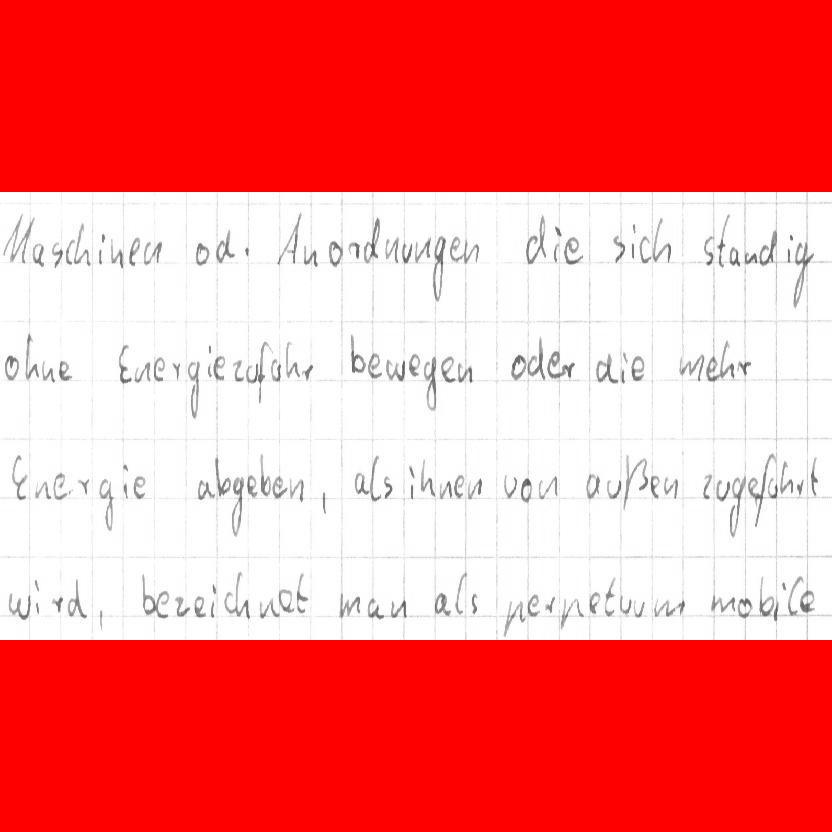Char: (622, 452, 649, 511), (791, 240, 814, 309), (1, 204, 26, 267), (276, 208, 302, 267), (522, 212, 549, 266), (728, 474, 747, 539), (430, 232, 446, 303), (559, 590, 582, 632), (362, 216, 382, 264), (252, 343, 268, 402), (652, 217, 672, 264), (67, 224, 88, 268), (97, 477, 114, 531), (525, 333, 544, 381), (502, 595, 524, 636), (10, 453, 28, 501), (230, 474, 244, 535), (23, 332, 40, 382), (187, 359, 201, 419), (747, 474, 762, 530), (716, 213, 731, 269), (67, 576, 86, 619), (347, 332, 366, 375), (593, 352, 617, 385), (139, 572, 157, 616), (424, 352, 438, 407), (234, 573, 251, 617), (758, 576, 776, 617), (283, 339, 301, 380), (214, 455, 231, 497), (654, 596, 685, 619), (215, 227, 234, 264), (759, 228, 778, 265), (294, 570, 309, 616), (117, 342, 133, 384), (679, 352, 703, 380), (453, 570, 467, 617), (718, 339, 734, 380), (772, 580, 787, 621), (8, 590, 29, 619), (764, 455, 778, 498), (337, 593, 362, 617), (536, 474, 558, 501), (142, 239, 163, 266), (368, 453, 380, 500), (258, 451, 270, 498), (778, 459, 794, 494), (807, 454, 820, 497), (508, 352, 527, 381), (603, 578, 617, 616), (564, 235, 582, 264), (709, 594, 735, 614), (546, 350, 563, 380), (288, 475, 306, 502), (194, 239, 212, 266), (30, 240, 48, 267), (414, 237, 432, 264), (448, 234, 464, 264), (53, 472, 69, 502), (612, 232, 627, 263), (31, 580, 43, 618), (33, 476, 51, 501), (367, 351, 382, 381), (434, 591, 452, 616), (302, 242, 320, 267), (799, 588, 817, 613), (788, 580, 800, 617), (605, 475, 622, 501), (584, 472, 601, 498), (385, 358, 404, 381), (525, 590, 540, 619), (128, 235, 142, 266), (400, 237, 416, 264), (172, 594, 190, 618), (49, 240, 65, 267), (3, 356, 20, 381), (156, 590, 171, 618), (260, 599, 280, 620), (735, 595, 755, 616), (438, 474, 453, 502), (464, 237, 480, 263), (47, 592, 65, 615), (197, 477, 214, 501), (353, 471, 368, 498), (384, 235, 399, 262), (278, 587, 293, 614), (422, 471, 437, 498), (133, 475, 149, 500), (469, 474, 485, 499), (408, 464, 419, 500), (700, 473, 714, 501), (152, 356, 166, 384), (701, 236, 714, 266), (552, 224, 562, 263), (327, 240, 342, 266), (40, 358, 55, 384), (272, 475, 288, 499), (388, 599, 408, 618), (134, 362, 152, 383), (407, 351, 420, 380), (192, 593, 207, 618), (442, 356, 457, 381), (96, 232, 107, 266), (347, 238, 363, 261), (663, 476, 679, 499), (638, 235, 651, 263), (519, 476, 533, 502), (503, 474, 517, 500), (458, 361, 473, 385), (630, 357, 645, 381), (74, 476, 91, 497), (453, 473, 466, 500), (120, 464, 130, 499), (469, 590, 483, 615), (715, 478, 730, 501), (231, 359, 246, 382), (380, 475, 394, 499), (704, 358, 718, 382), (214, 357, 228, 381), (543, 593, 557, 617), (784, 231, 794, 264), (208, 582, 217, 617), (587, 592, 600, 616), (59, 359, 73, 381), (245, 362, 259, 384), (560, 359, 576, 378), (649, 474, 661, 499), (367, 599, 382, 619), (619, 348, 627, 385), (630, 221, 637, 263), (318, 488, 328, 517), (206, 342, 214, 378), (269, 359, 282, 381), (222, 589, 233, 615), (739, 358, 752, 379), (111, 246, 124, 267), (247, 473, 258, 497), (619, 595, 632, 615), (301, 363, 314, 383), (729, 245, 740, 267), (240, 242, 252, 262), (95, 605, 105, 629), (171, 360, 181, 381), (633, 599, 644, 618), (744, 251, 758, 265), (795, 478, 804, 497)
